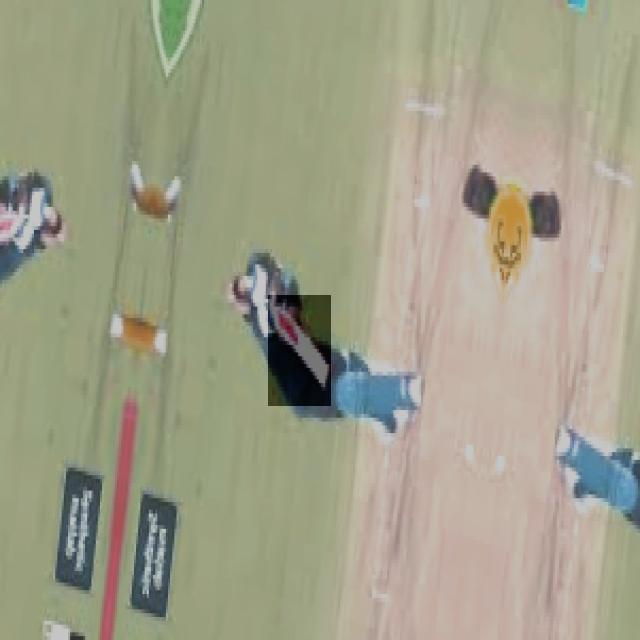bat: (270, 294, 329, 407)
toe: (321, 363, 329, 395)
